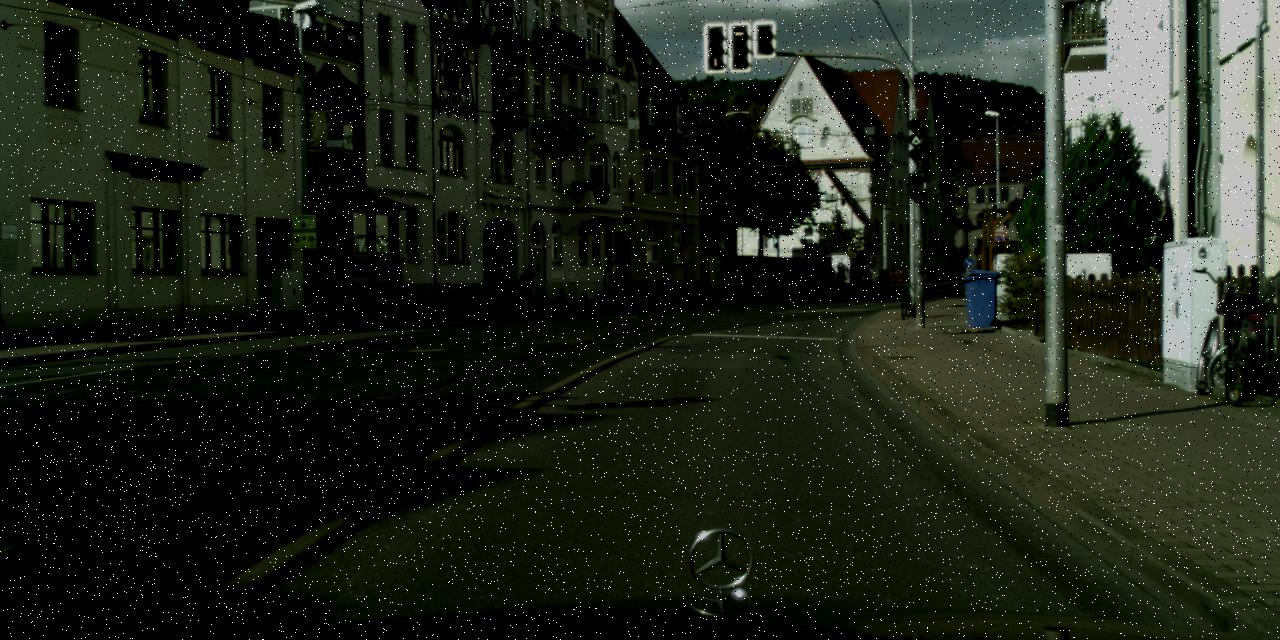ped: (486, 261, 506, 311), (518, 267, 534, 308), (931, 262, 938, 280)
